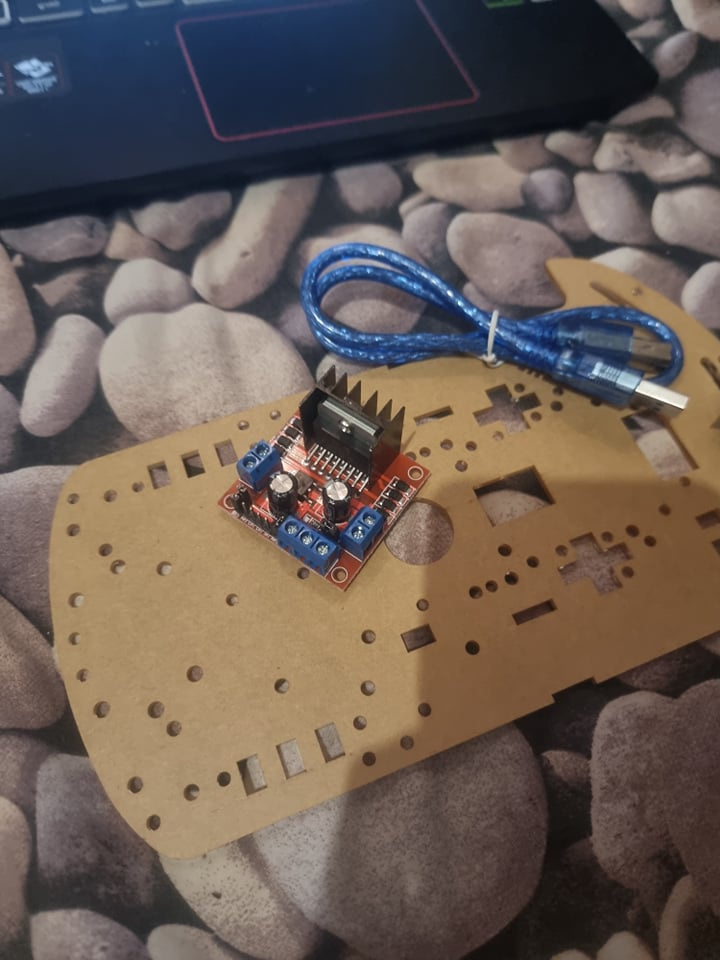MOTOR: (217, 368, 432, 595)
